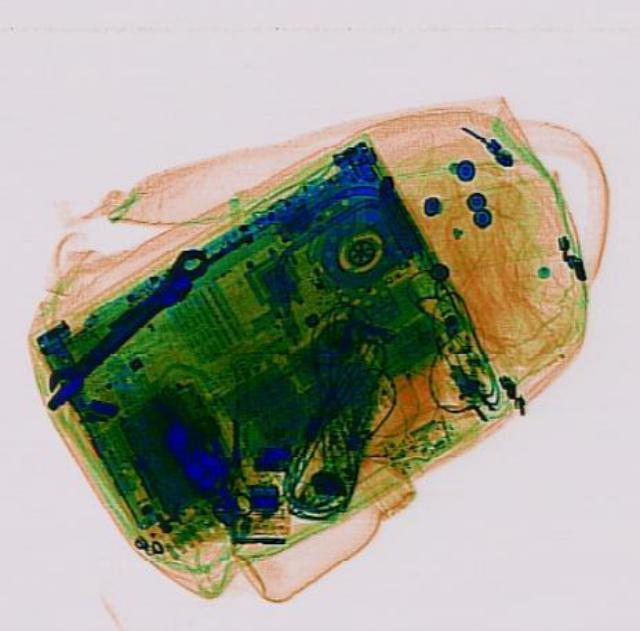Scissors: (205, 460, 251, 521)
Wrench: (27, 239, 215, 412)
